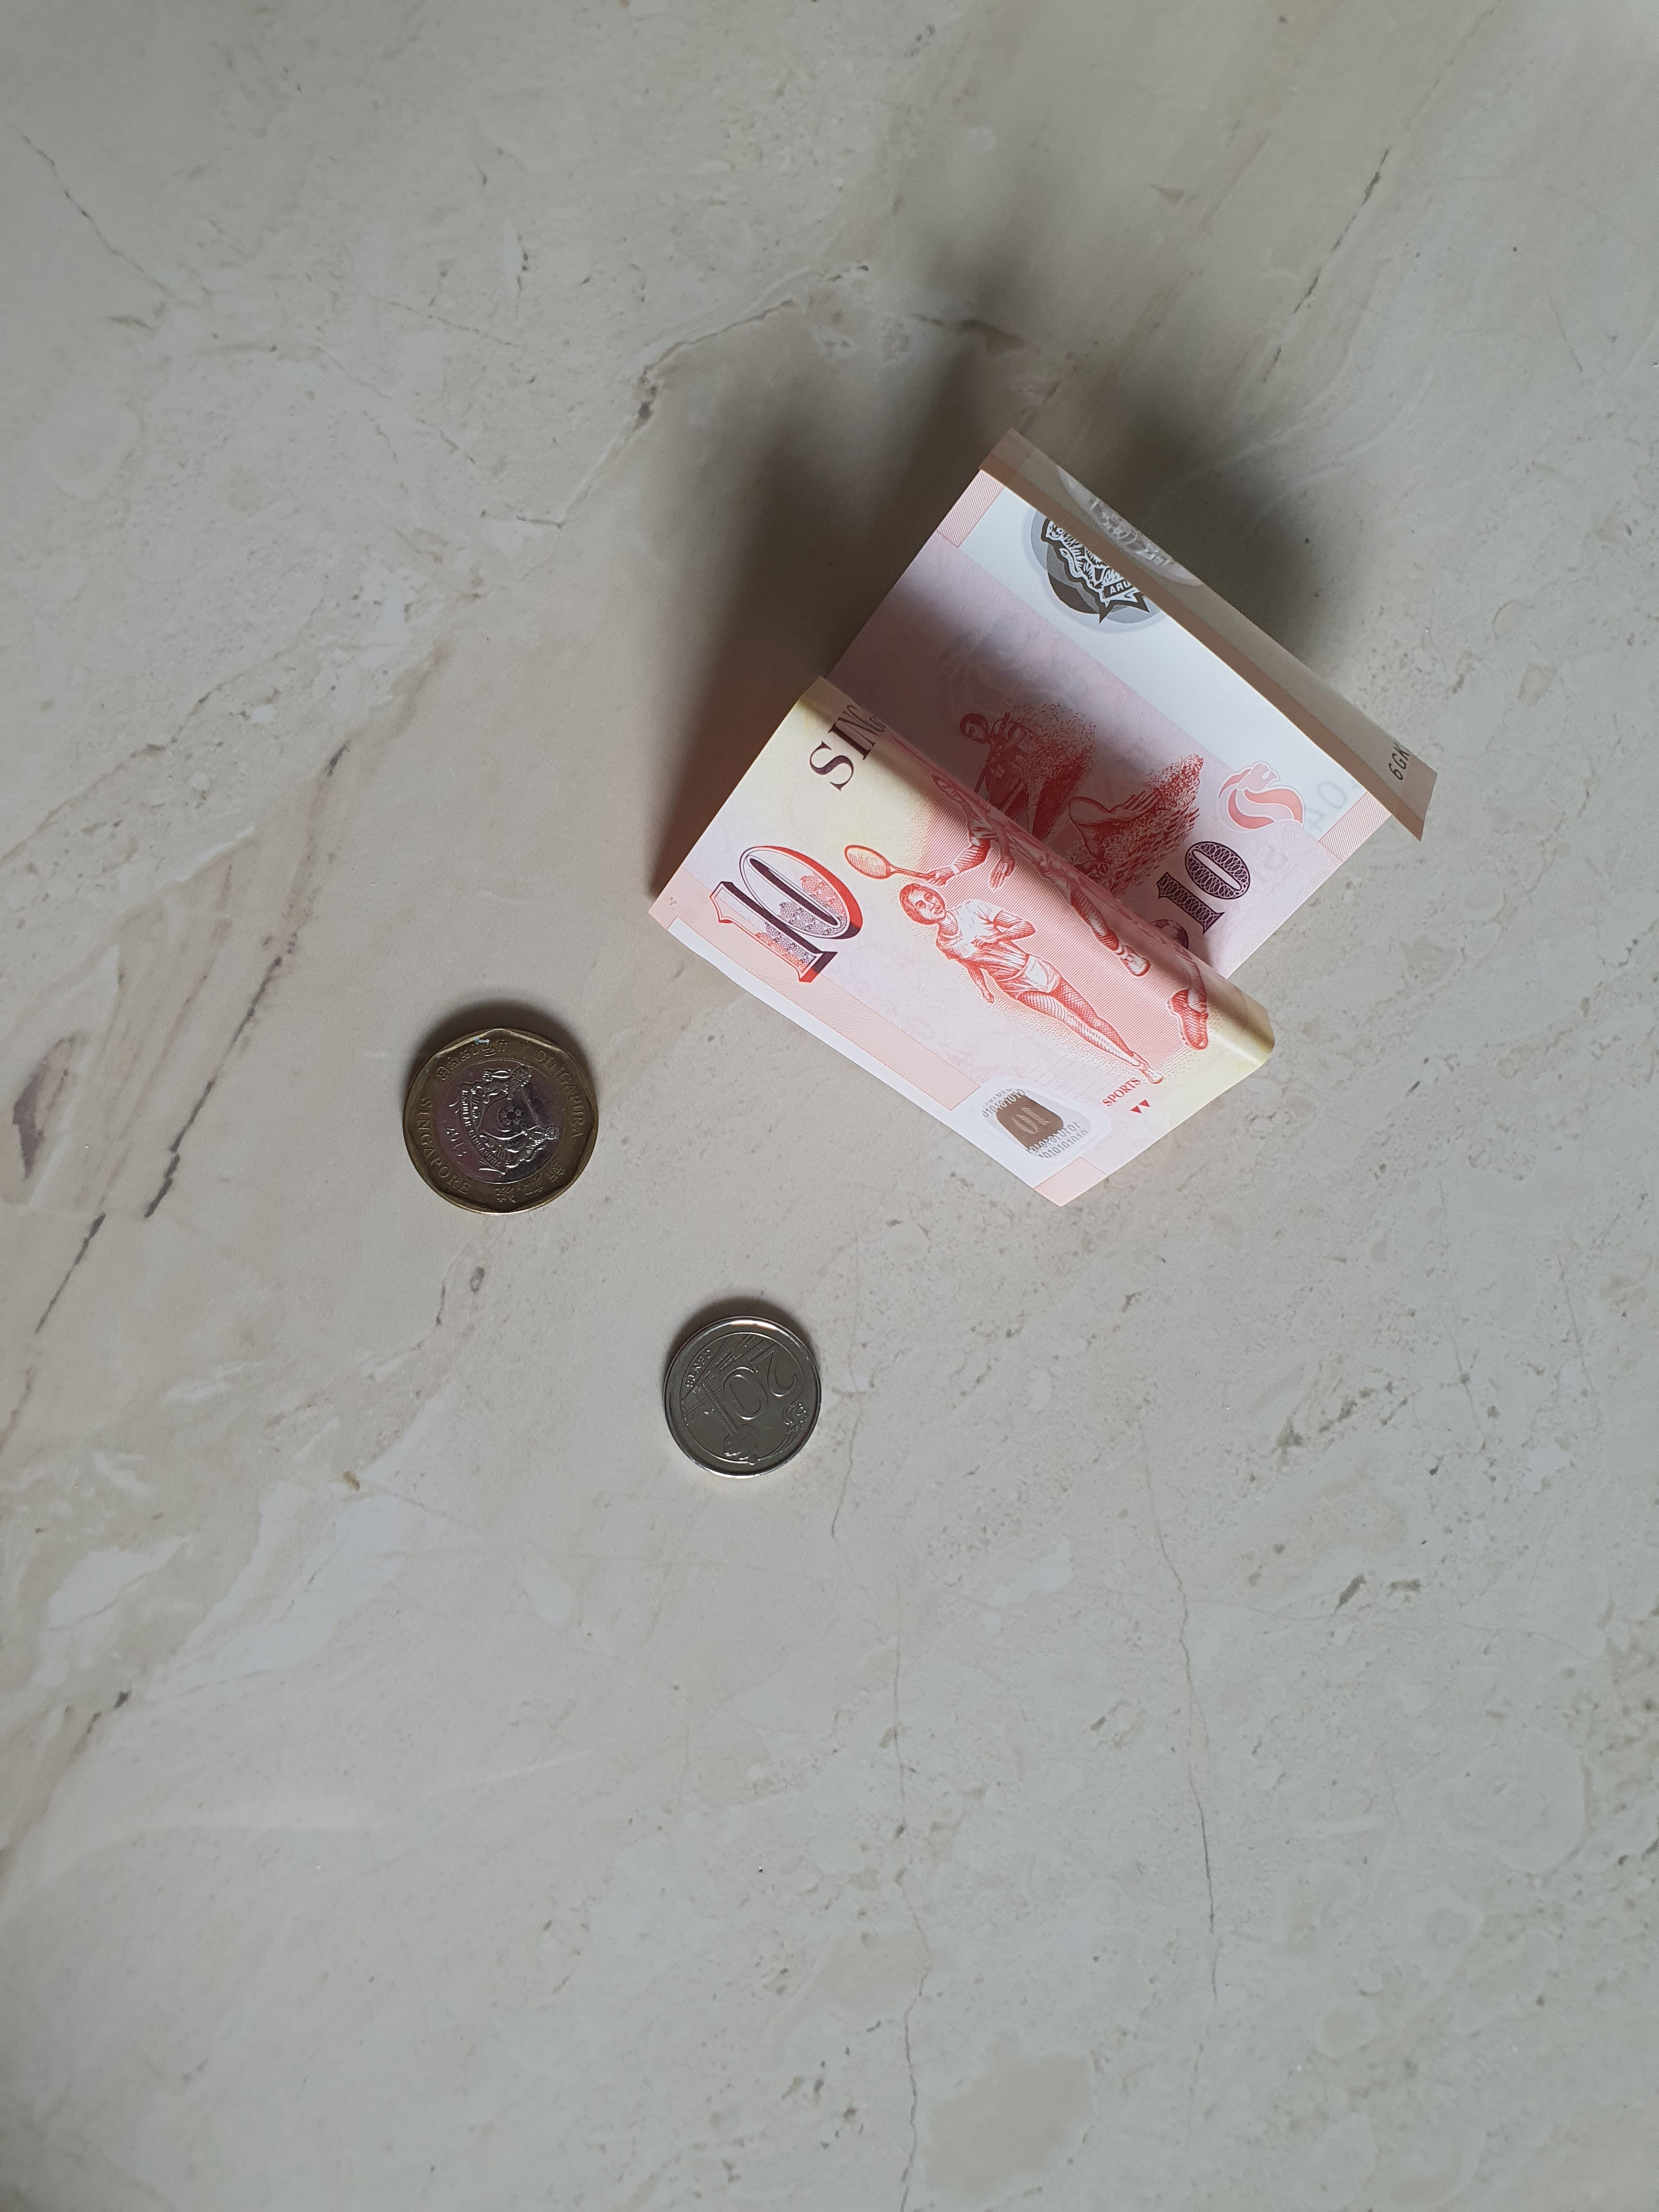$1: (403, 1026, 598, 1216)
$10: (647, 428, 1438, 1209)
20c: (662, 1317, 824, 1480)
